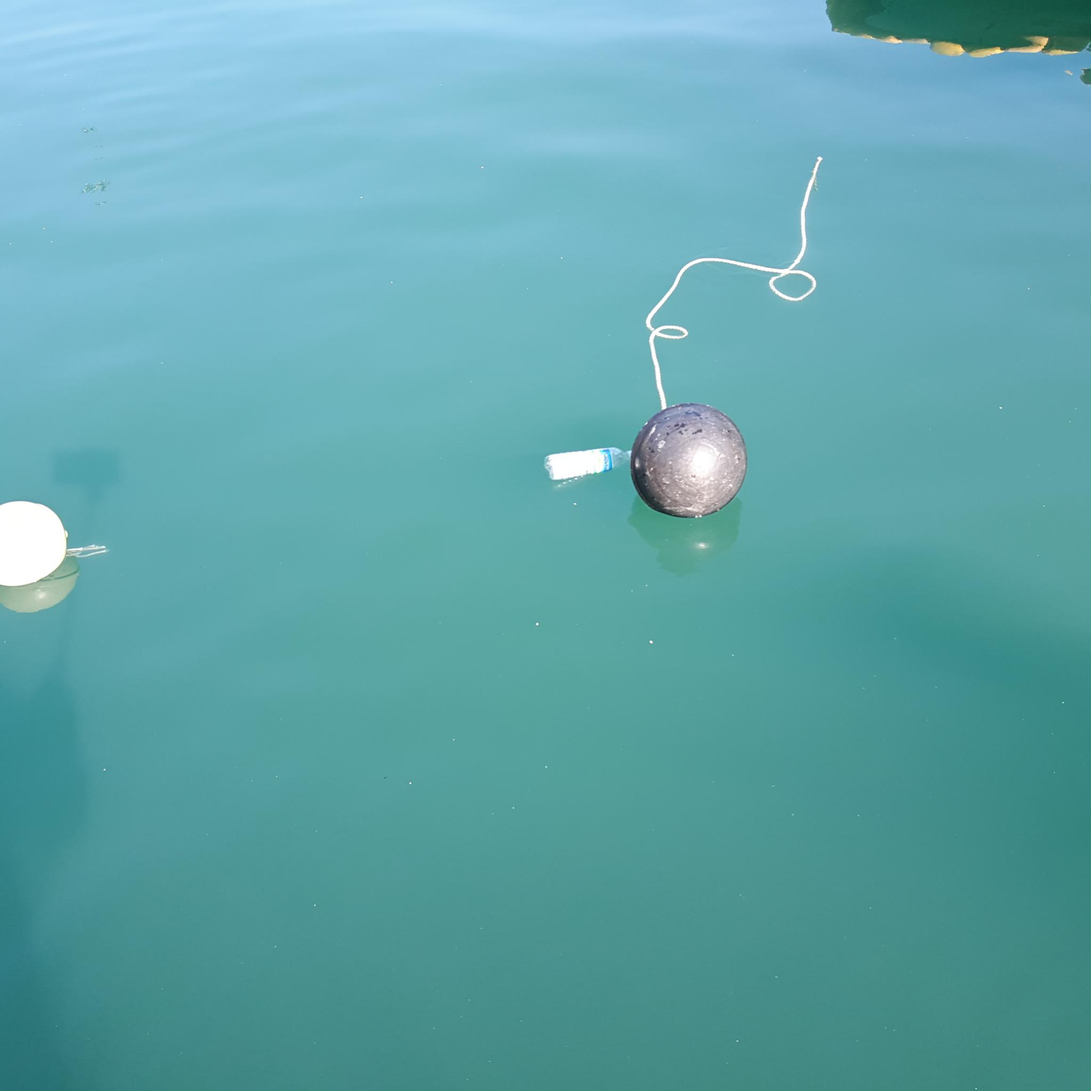sampah_terapung: (646, 157, 824, 412), (631, 403, 748, 519), (1, 501, 69, 586), (545, 448, 632, 480), (66, 544, 110, 558)
